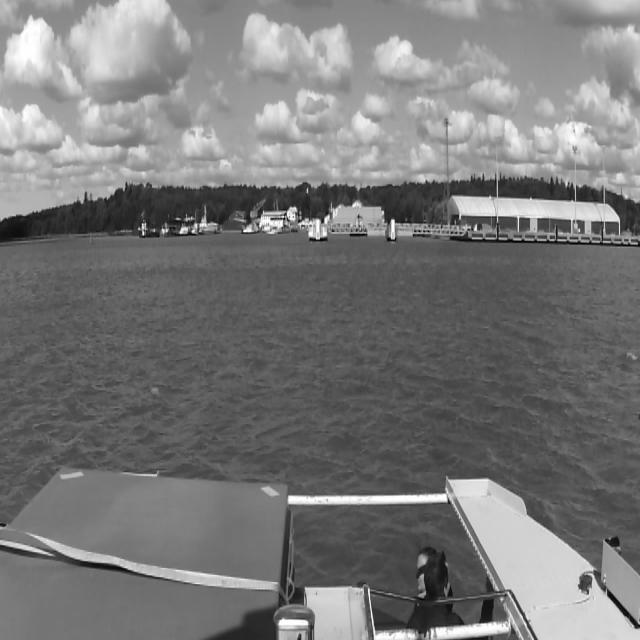buoy: (89, 229, 95, 247)
